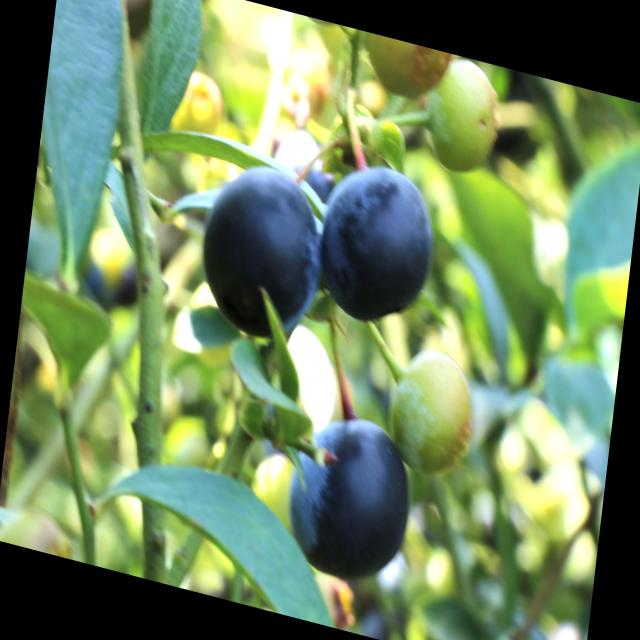blueberry: (190, 150, 330, 357), (280, 400, 416, 598), (311, 149, 436, 332)
blueberry-unripe: (383, 343, 478, 488), (422, 54, 508, 185), (360, 32, 454, 110)
